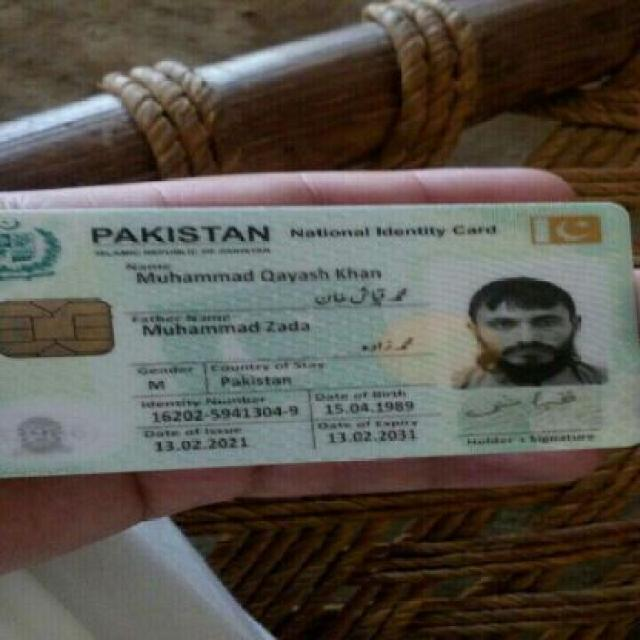Front: (2, 197, 636, 465)
